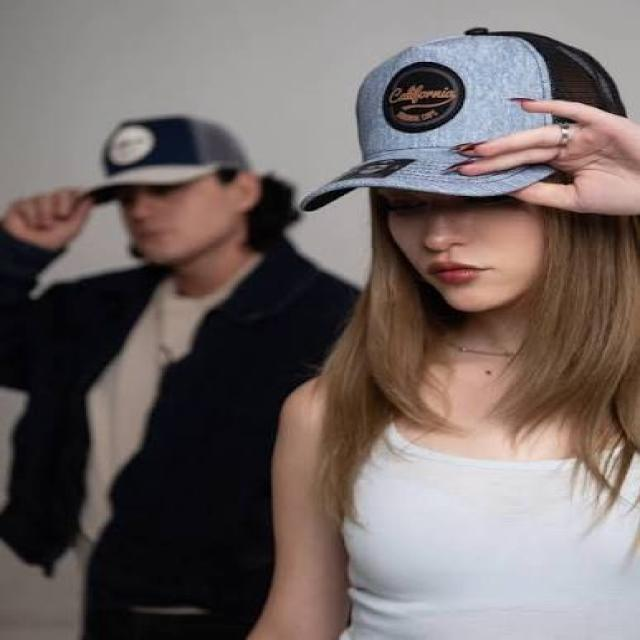Gorra: (284, 27, 631, 210)
